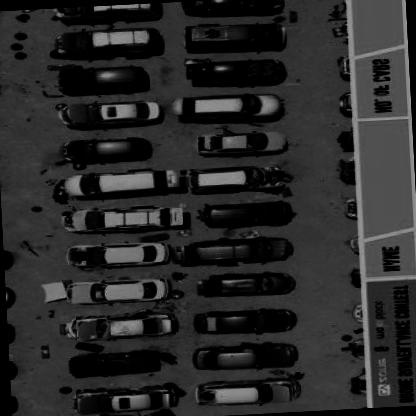car: (54, 26, 162, 60), (62, 204, 184, 234), (174, 90, 286, 122), (65, 310, 176, 342), (61, 168, 179, 198), (193, 375, 300, 407), (192, 341, 296, 373), (72, 384, 178, 415), (183, 236, 292, 266), (181, 164, 289, 193), (64, 276, 170, 305), (192, 307, 294, 337), (186, 56, 284, 86), (57, 98, 162, 126), (182, 20, 282, 49), (66, 242, 169, 270), (58, 64, 148, 96), (199, 198, 293, 228), (58, 135, 150, 165), (67, 350, 160, 378), (193, 271, 292, 297), (49, 3, 160, 26), (193, 127, 287, 154), (176, 0, 285, 18)
